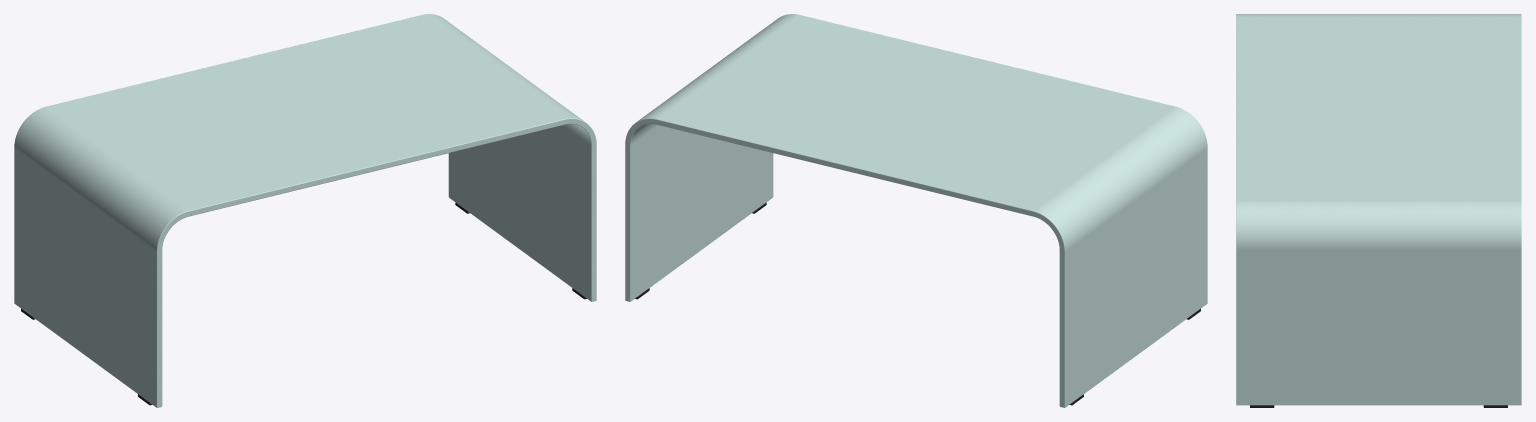
3 views of the same model, side by side, from view 1: azimuth 30°, elevation 25°; view 2: azimuth 150°, elevation 25°; view 3: azimuth 270°, elevation 25° (orthographic).
Visible parts, largest first — view 1: One-piece waterfall glass shell; view 2: One-piece waterfall glass shell; view 3: One-piece waterfall glass shell.
Boxes of the visible parts, bbox=[...] form: One-piece waterfall glass shell: bbox=[14, 14, 596, 407]; One-piece waterfall glass shell: bbox=[625, 14, 1207, 407]; One-piece waterfall glass shell: bbox=[1236, 14, 1521, 405].
Size of the model in its own units: 0.961 by 0.4 by 0.54.
2 materials, 1 textured.
